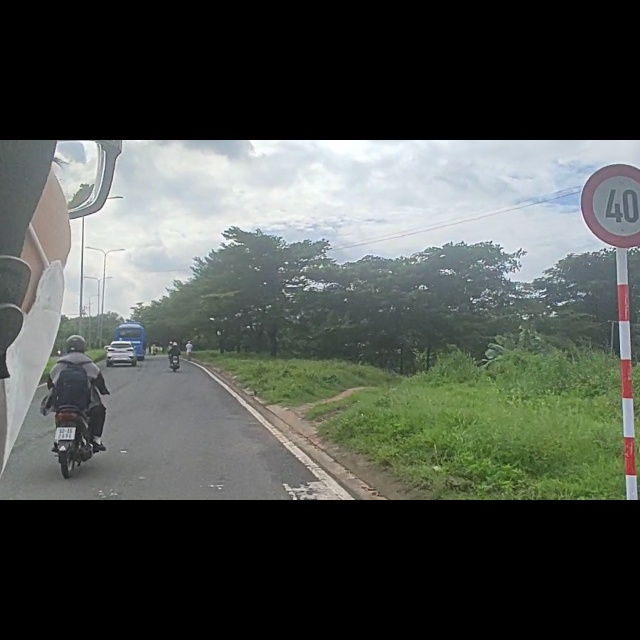bien_cam: (577, 38, 640, 197)
